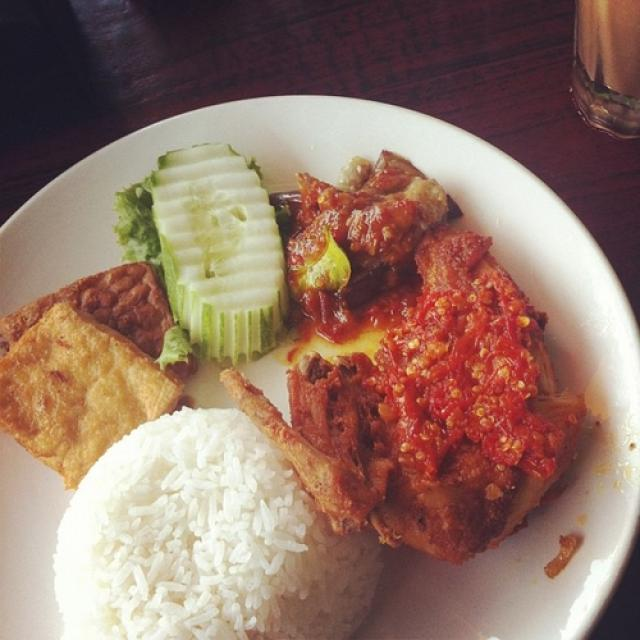鸡肉料理 含炸鸡: (19, 84, 616, 626)
